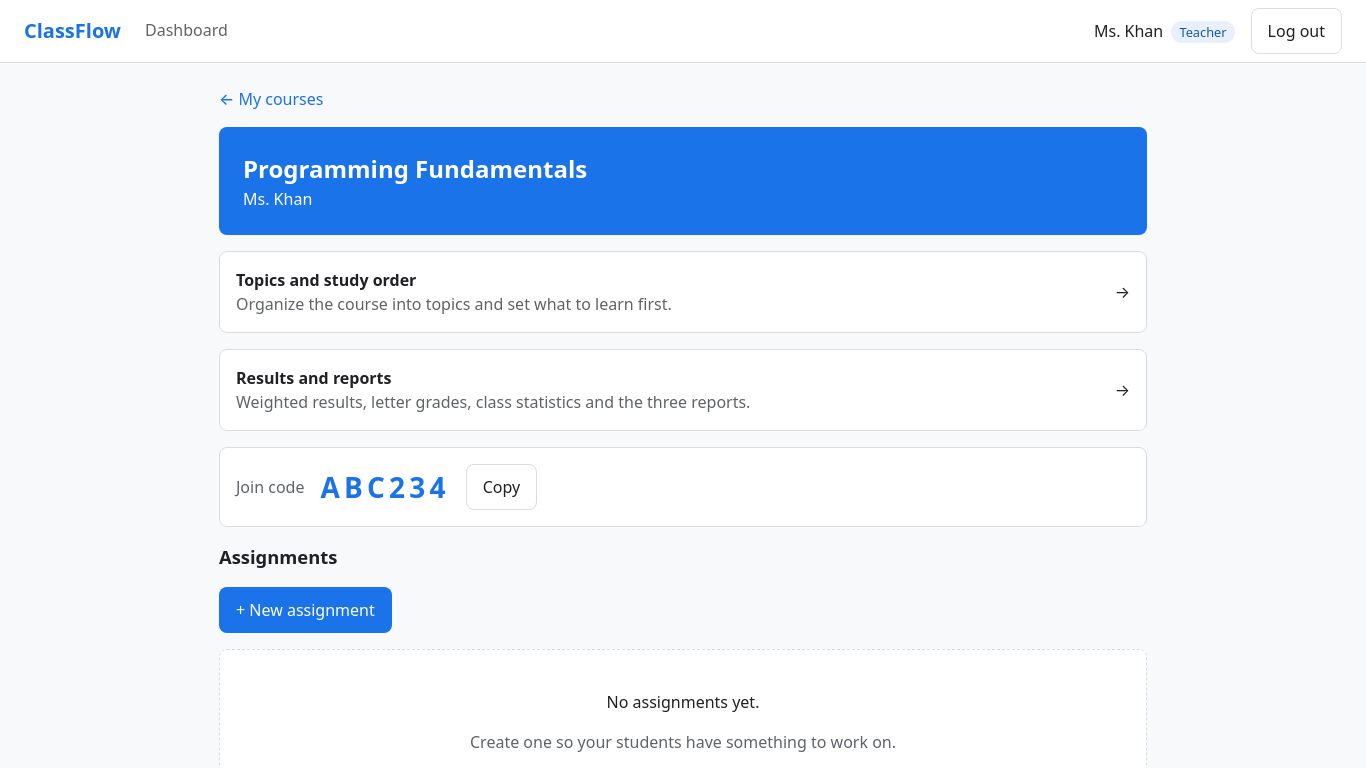
Scenario: course page (teacher) › sends the chosen category
Click the button "+ New assignment": {"x": 305, "y": 610} [219, 587, 392, 633]
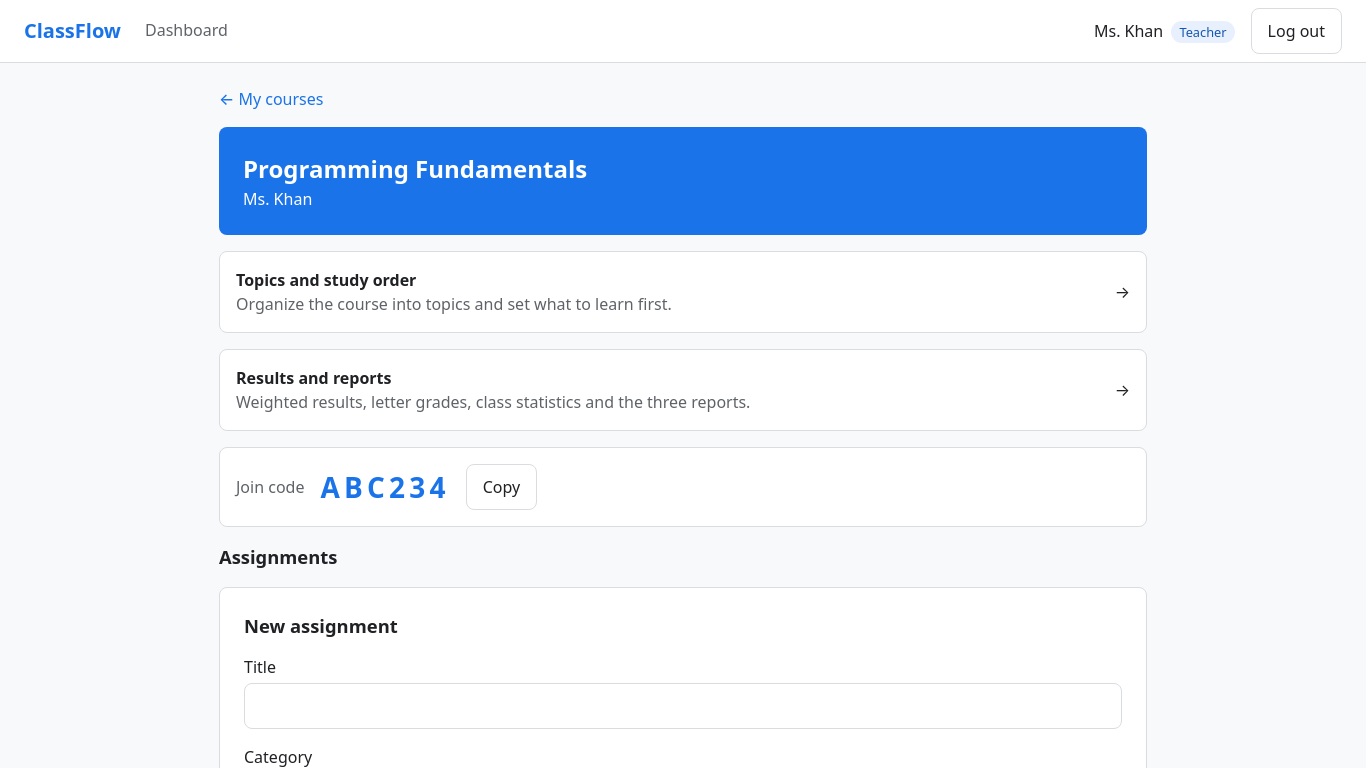
In the field labelled "Title": {"x": 683, "y": 706} [244, 683, 1122, 729], type "Midterm"
(page scrolled)
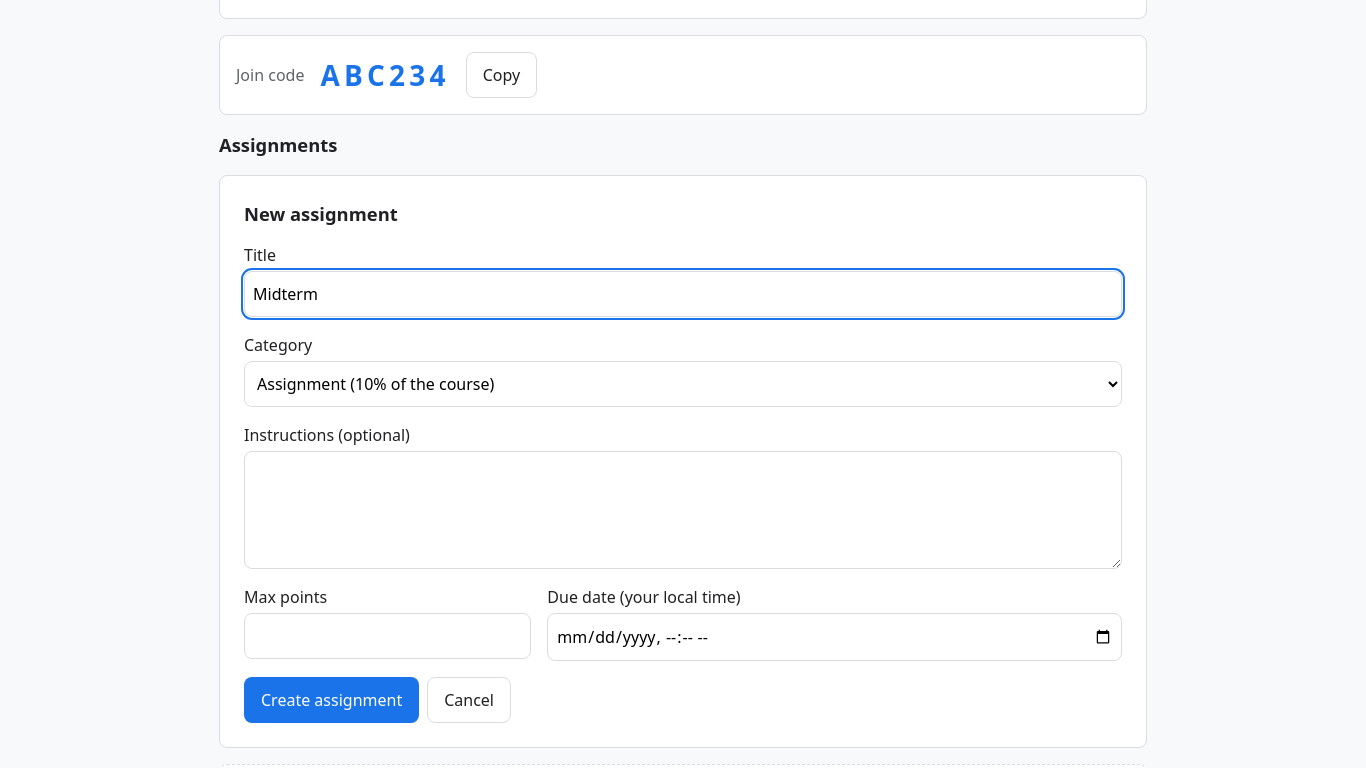
Select "Midterm (30% of the course, taken in class)" in the dropdown labelled "Category": {"x": 683, "y": 384} [244, 361, 1122, 407]
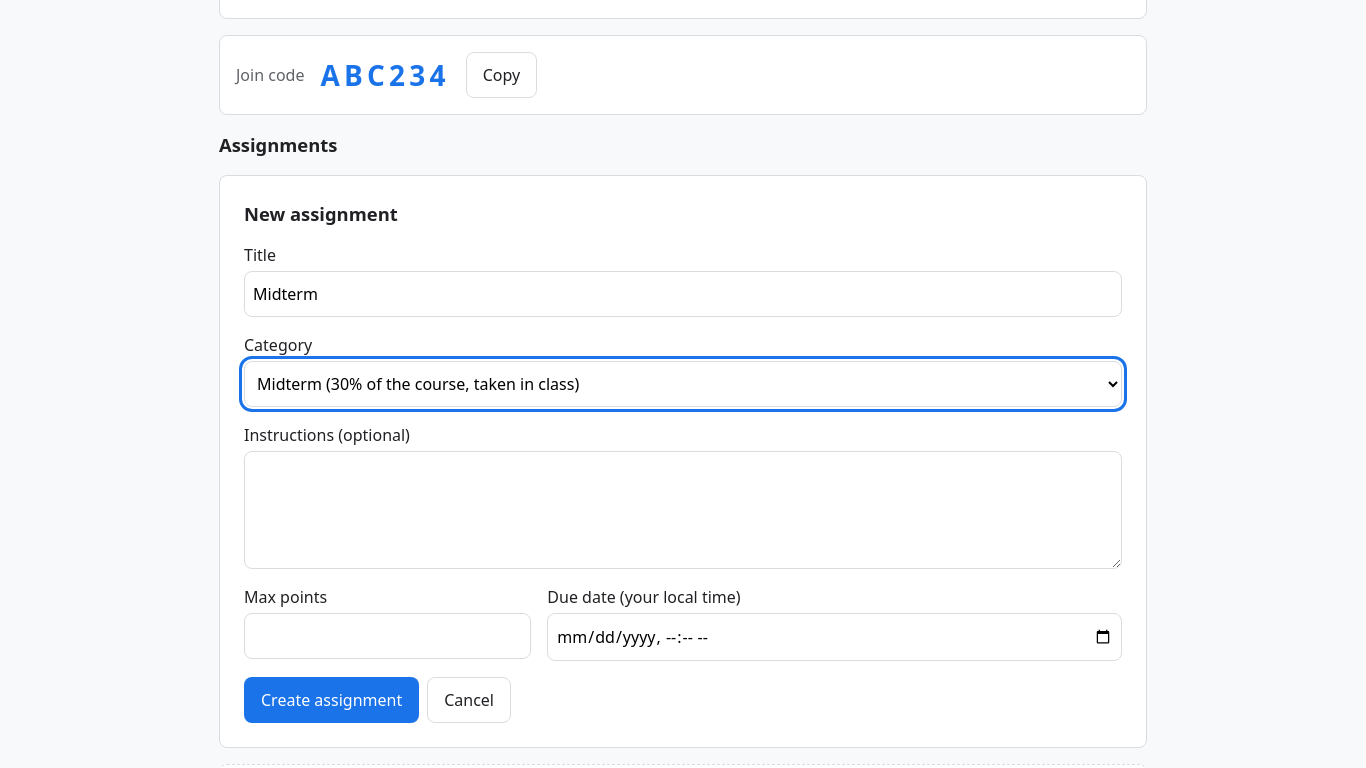
In the number field labelled "Max points": {"x": 388, "y": 636} [244, 613, 531, 659], type "50"
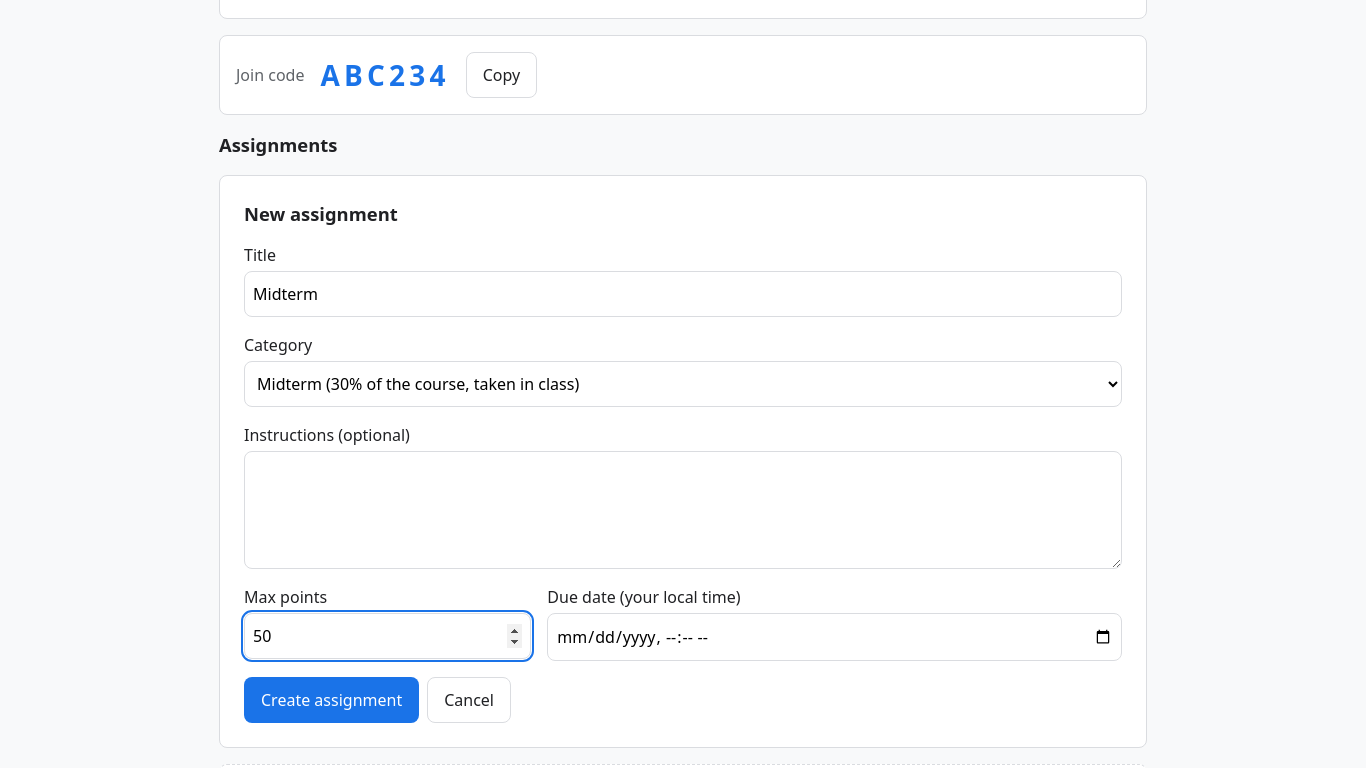
In the field labelled "Due date (your local time)": {"x": 835, "y": 637} [547, 613, 1122, 661], type "2099-11-30T09:00"
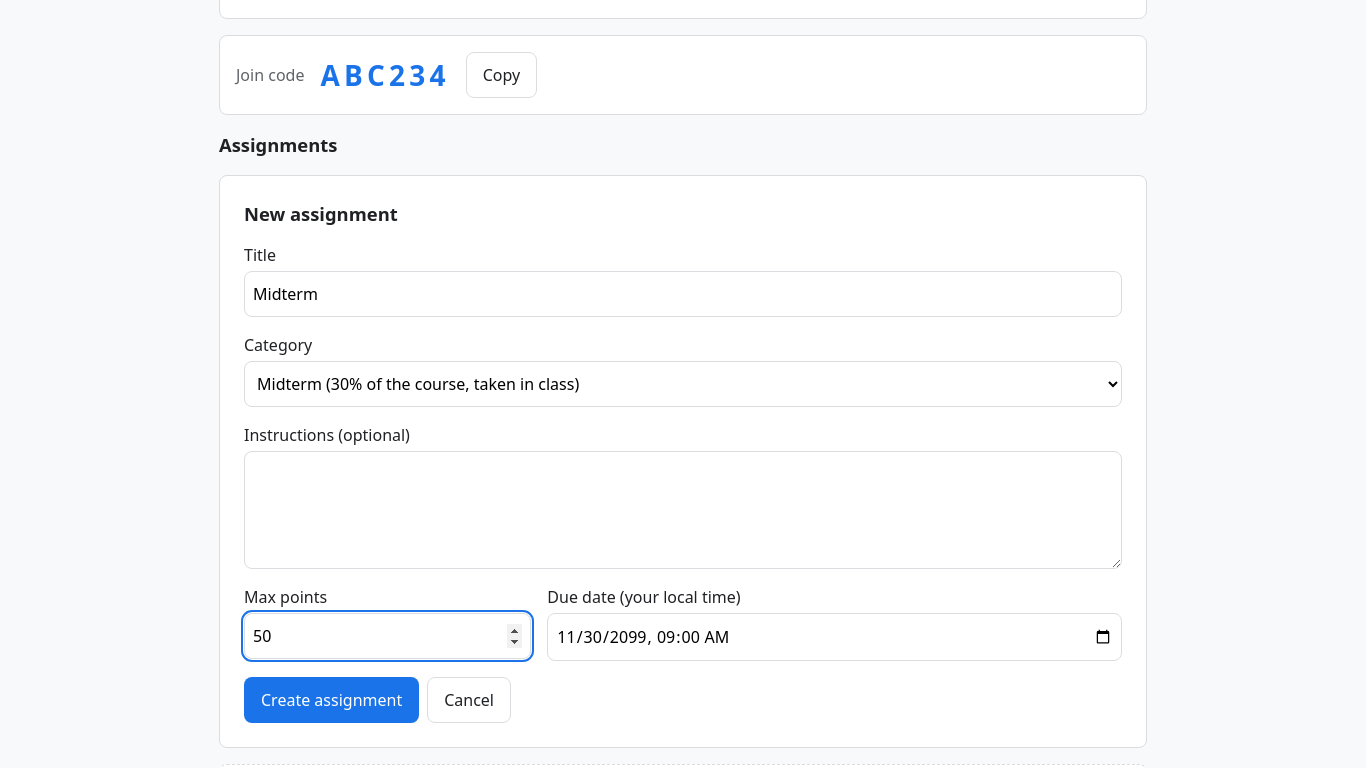
Click the button "Create assignment": {"x": 332, "y": 700} [244, 677, 419, 723]
(page scrolled)
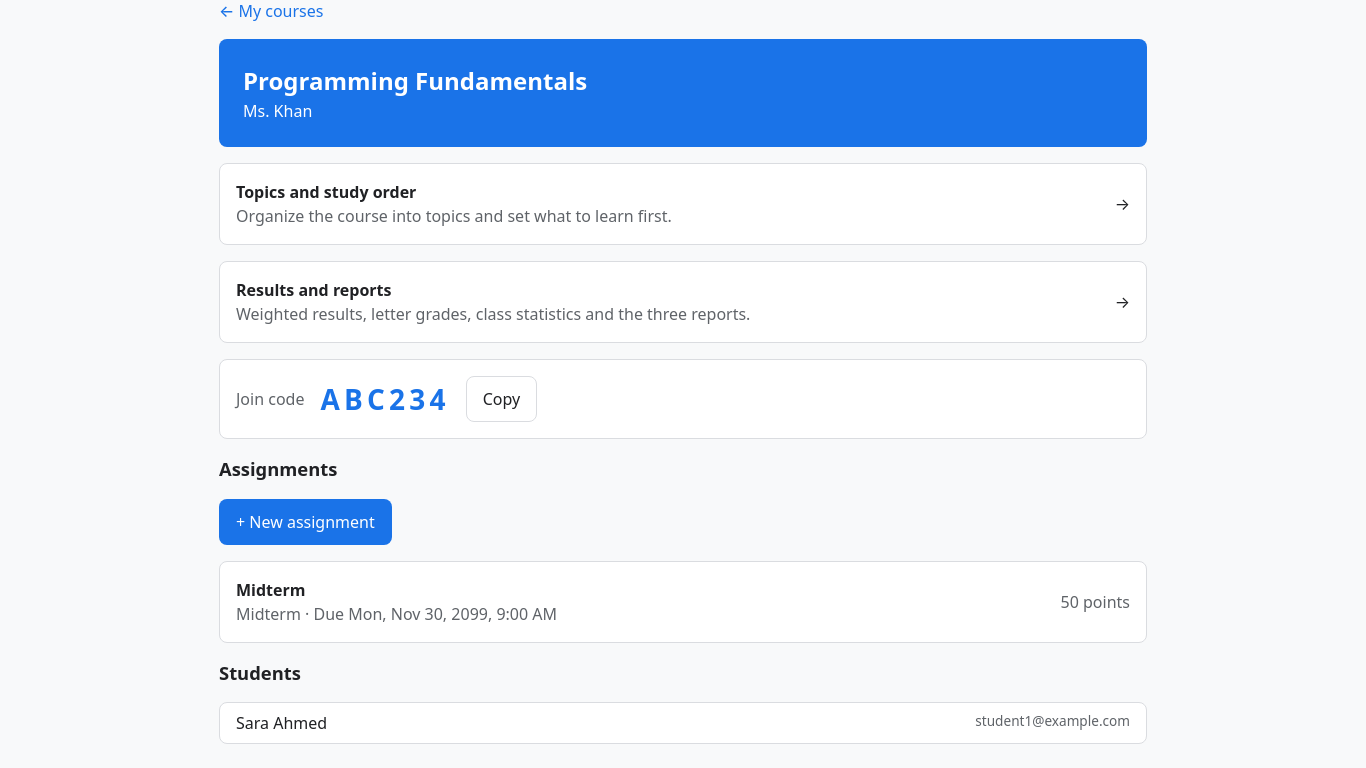
Expected: the link "Midterm Midterm · Due Mon, Nov 30, 2099, 9:00 AM 50 points" is shown, [219, 561, 1147, 643]
